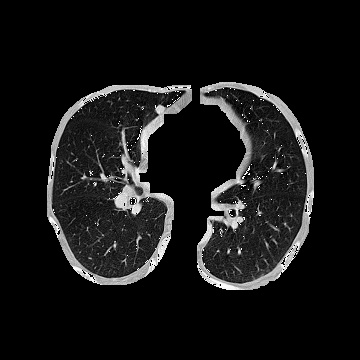PN: (154, 104, 164, 114)
